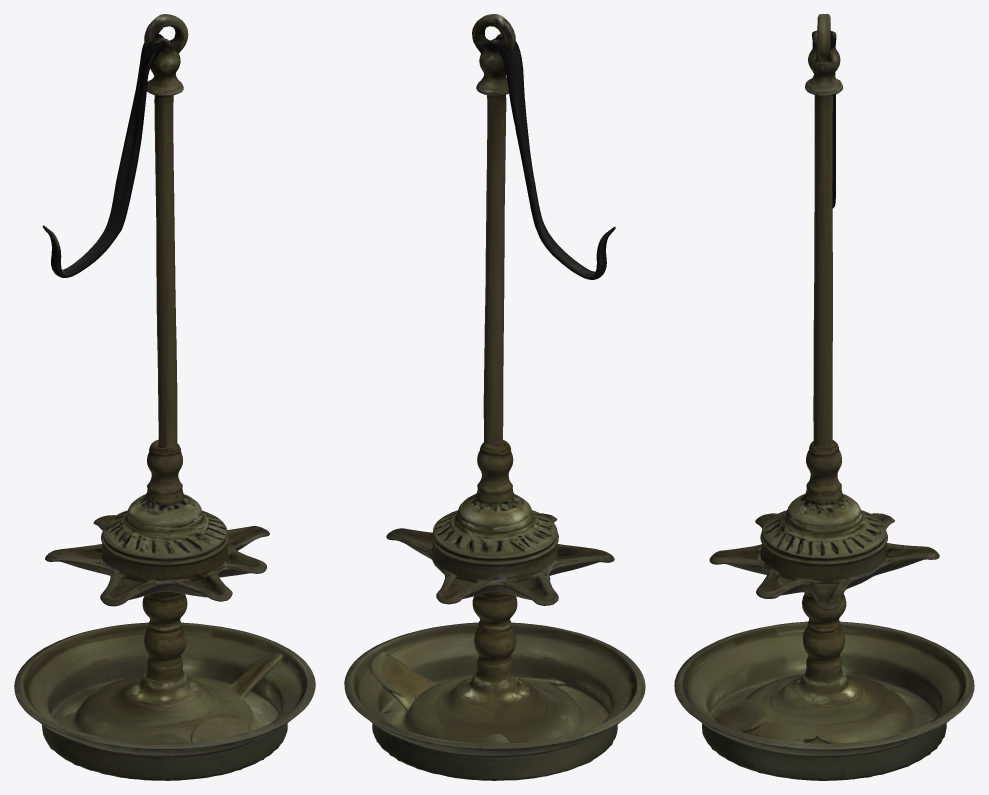
Rendered from Damber Siu.glb.
3 renders of one model, left to right at view 1: azimuth 30°, elevation 25°; view 2: azimuth 150°, elevation 25°; view 3: azimuth 270°, elevation 25°, orthographic.
Parts seen in each view (by area): view 1: node_0; view 2: node_0; view 3: node_0.
Boxes of the visible parts, x1,y1,x2,y2 form: node_0: (14,14,315,780); node_0: (344,14,645,780); node_0: (674,14,974,780).
Bounding box in the file's own units: 0.2209 × 0.5748 × 0.2186.
1 material, 1 textured.
